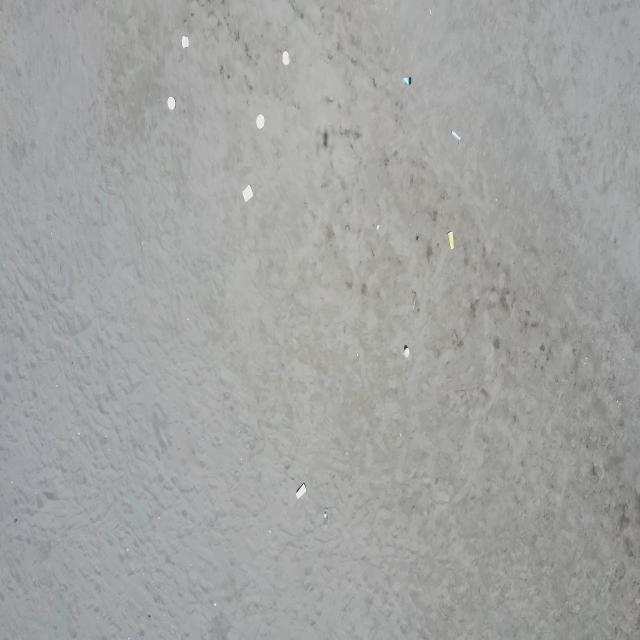take-away-containers: (242, 184, 254, 200), (256, 113, 266, 131), (167, 95, 176, 110), (282, 50, 290, 65), (182, 35, 190, 49)
takeaway-cup: (296, 483, 306, 499), (451, 129, 462, 143), (323, 508, 329, 528), (448, 230, 454, 250), (402, 347, 410, 358), (403, 76, 412, 85)
